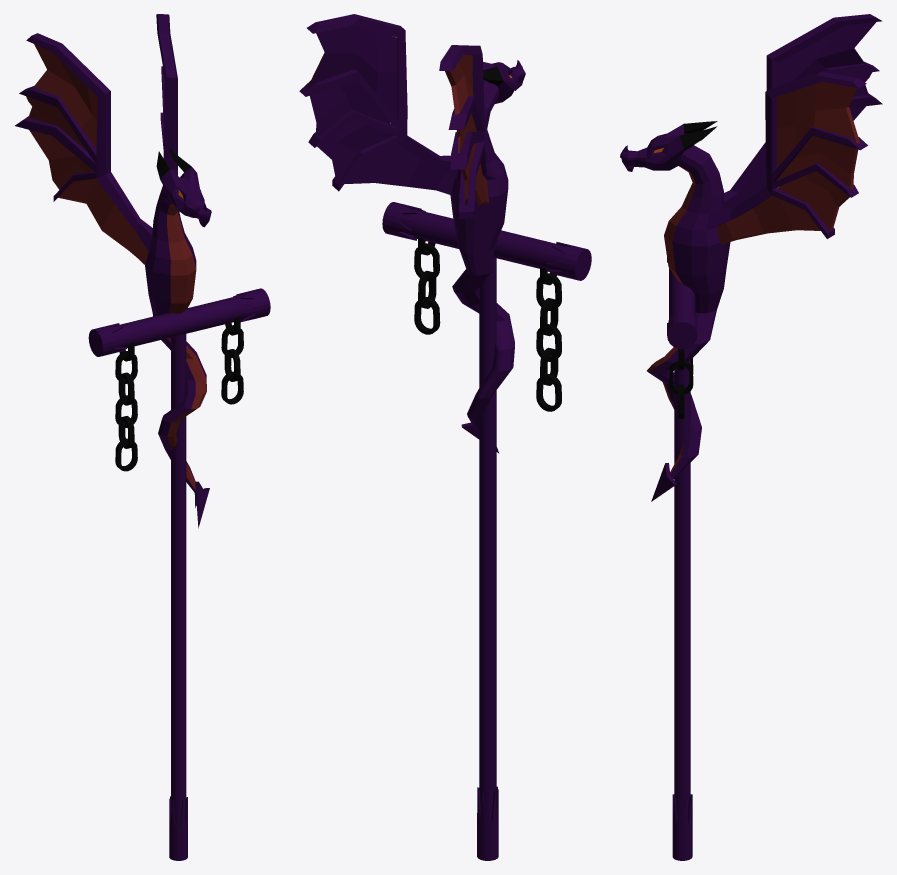
Rendered from Dragon Staff.fbx.
3 views of the same model, side by side, from view 1: azimuth 30°, elevation 25°; view 2: azimuth 150°, elevation 25°; view 3: azimuth 270°, elevation 25° (orthographic). The views are drawn at different scales.
Parts seen in each view (by area): view 1: pPrism27, pCylinder12, pCylinder15, pCube9, pCube6, pCube7, pCube8; view 2: pPrism27, pCylinder12, pCylinder15, pCube13, pCube10, pCube12, pCube11, pCube9; view 3: pPrism27, pCylinder12, pCube13, pCube9, pCube10, pCube12, pCube11, pCylinder15.
Part boxes in pixels (box(x1,y1,x2,y2)): pPrism27: box(15, 14, 211, 507); pCylinder12: box(169, 334, 187, 860); pCylinder15: box(88, 288, 270, 356); pCube9: box(34, 44, 97, 148); pCube6: box(58, 179, 148, 264); pCube7: box(29, 130, 93, 189); pCube8: box(26, 96, 86, 150); pPrism27: box(299, 14, 525, 431); pCylinder12: box(477, 257, 498, 860); pCylinder15: box(382, 202, 591, 280); pCube13: box(307, 25, 397, 119); pCube10: box(344, 143, 455, 195); pCube12: box(310, 80, 391, 139); pCube11: box(317, 120, 393, 183); pCube9: box(445, 54, 473, 115); pPrism27: box(620, 14, 882, 479); pCylinder12: box(672, 360, 692, 860); pCube13: box(776, 81, 860, 168); pCube9: box(779, 22, 875, 85); pCube10: box(716, 195, 820, 244); pCube12: box(776, 135, 858, 189); pCube11: box(777, 171, 849, 230); pCylinder15: box(667, 258, 697, 349).
Size of the model in its own units: 3.28 by 14.37 by 4.21.
